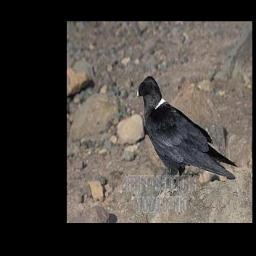Crow: (135, 75, 239, 200)
